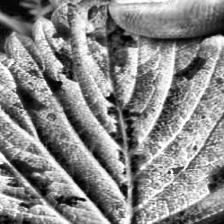Angular Leafspot: (0, 2, 224, 224)
